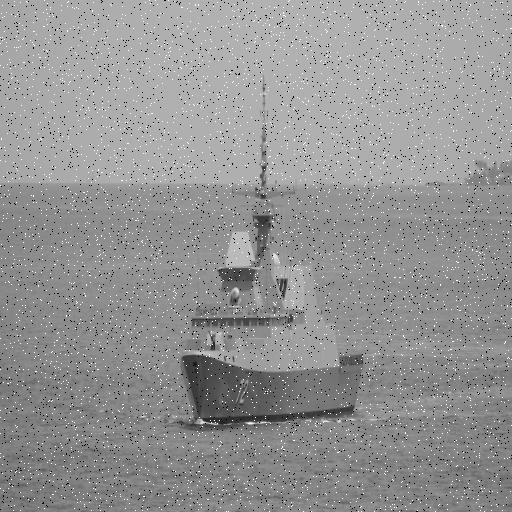Fragata: (177, 76, 365, 429)
